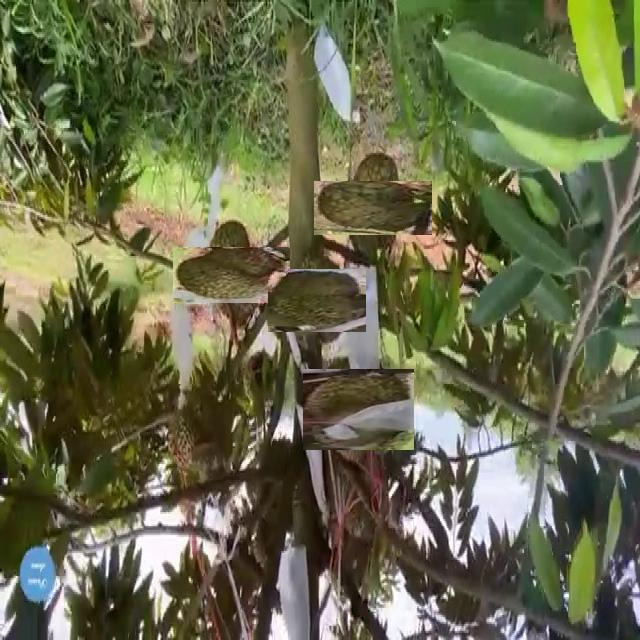durian: (310, 361, 407, 457), (188, 232, 275, 319), (329, 165, 416, 251), (276, 260, 357, 342)
